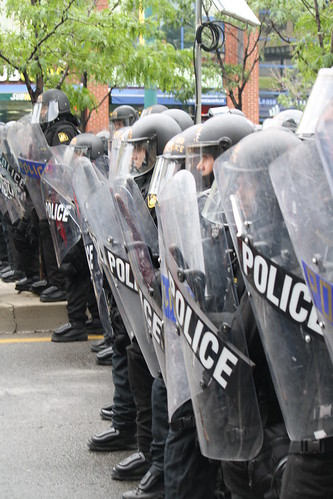policeman: (173, 116, 276, 499), (120, 116, 176, 499), (49, 134, 113, 355), (21, 92, 65, 300)
